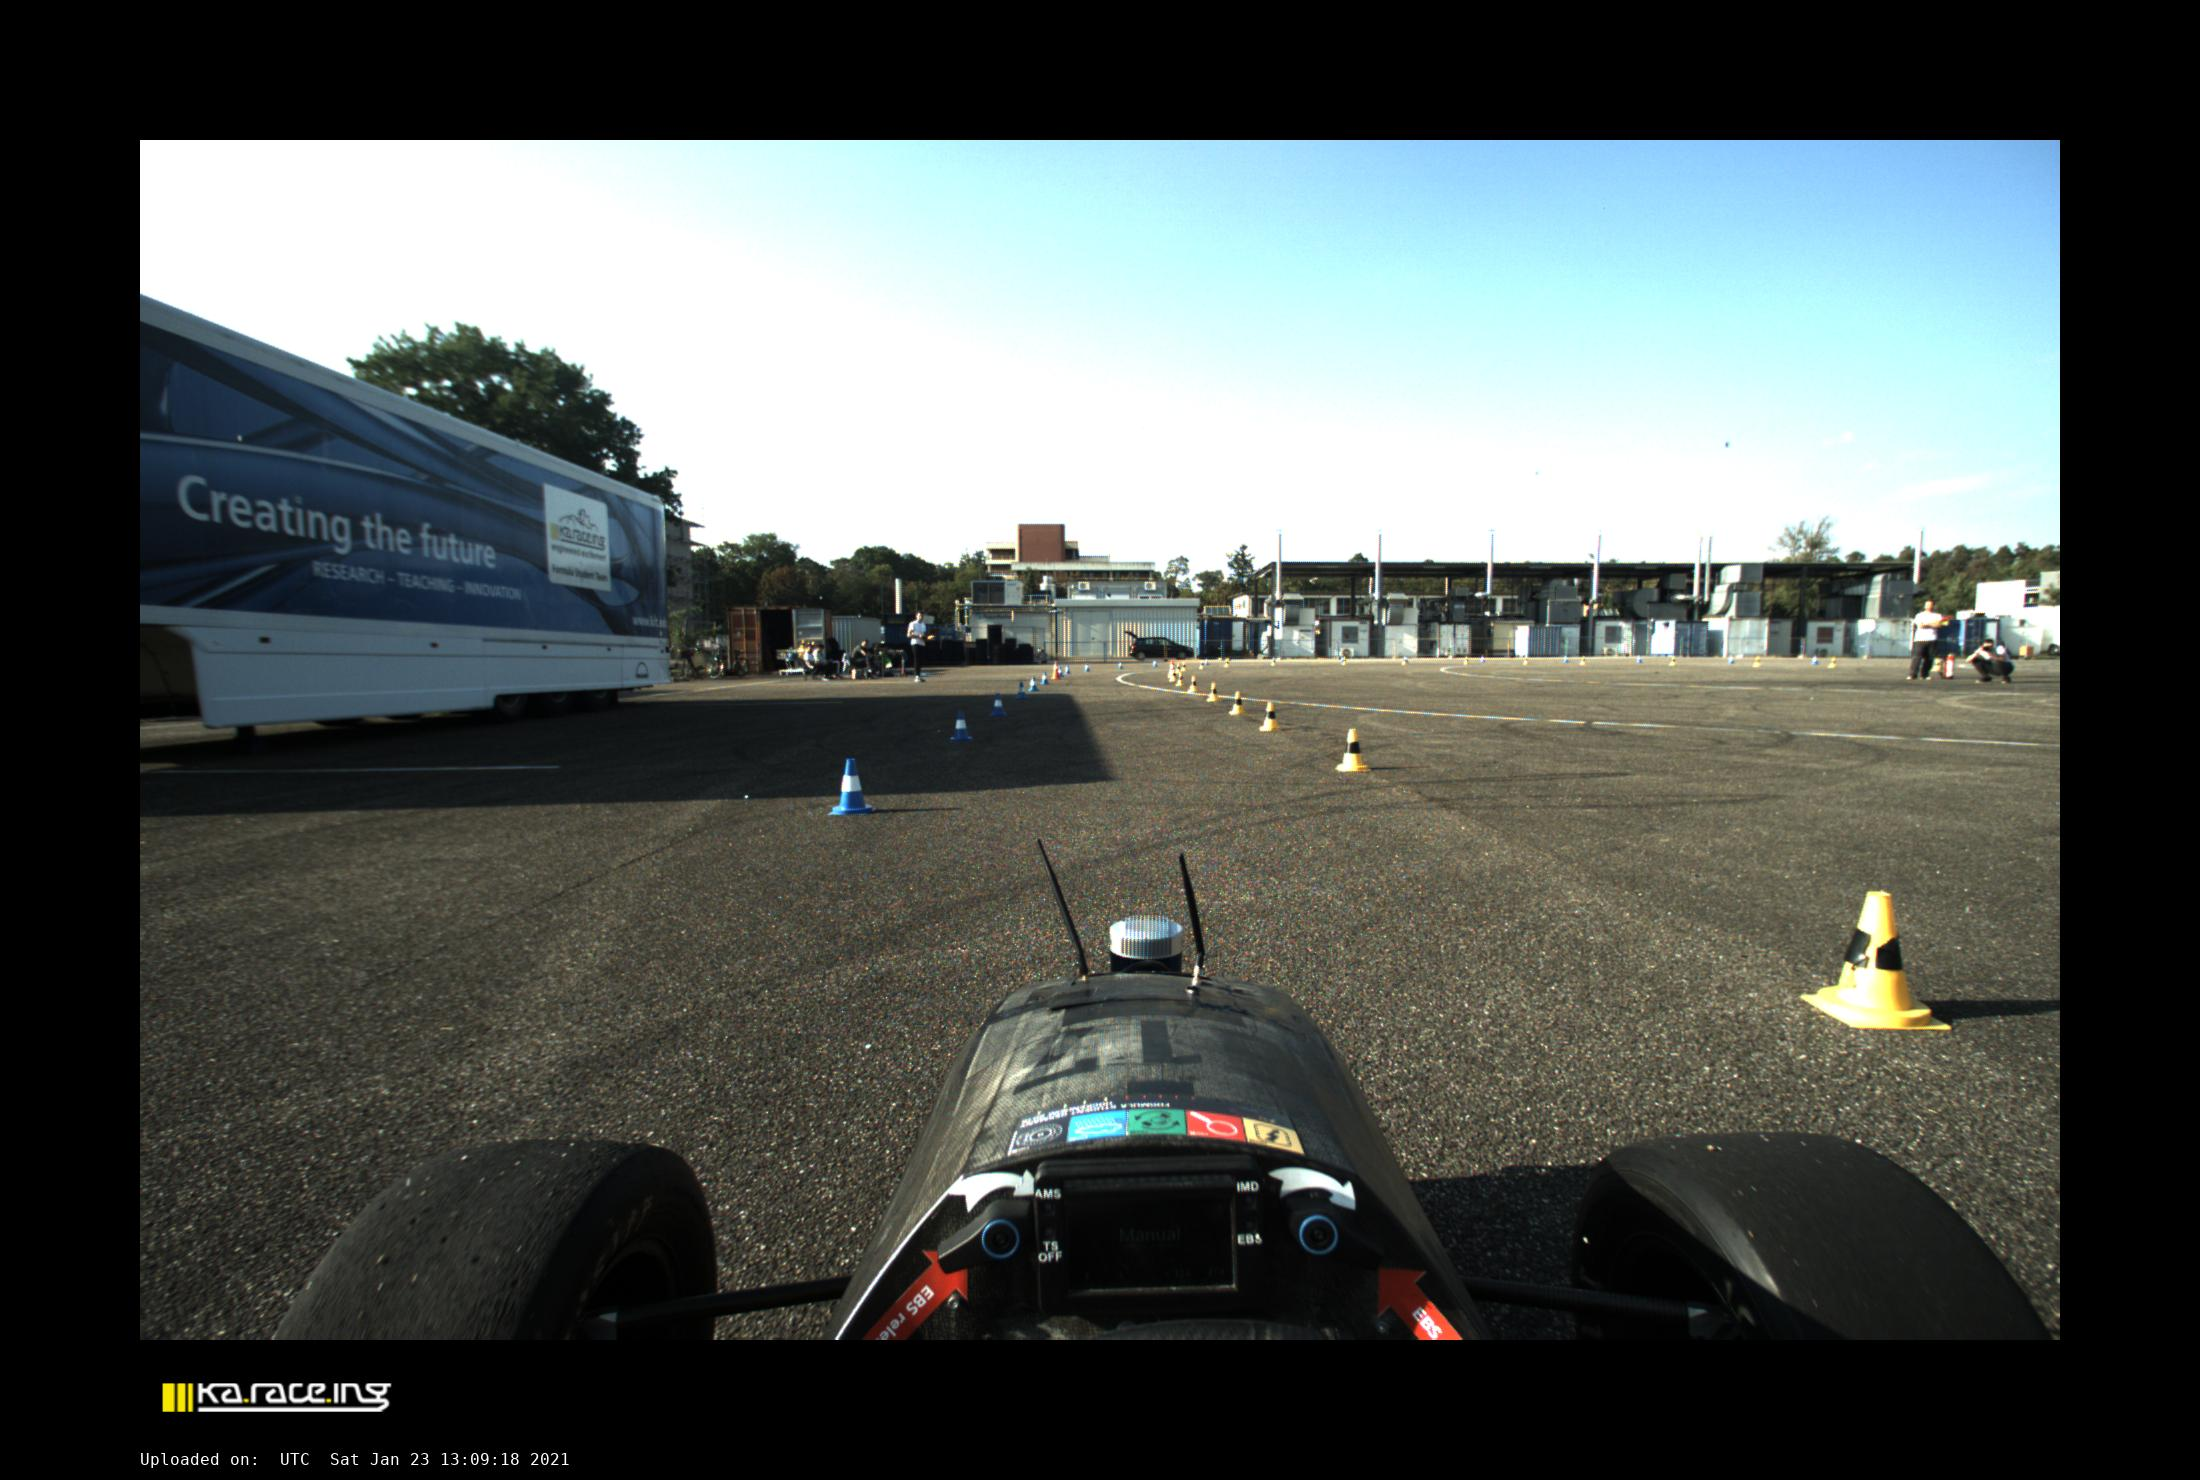blue_cone: (827, 758, 877, 816), (950, 710, 973, 742), (988, 694, 1008, 717), (1014, 681, 1027, 699), (1027, 676, 1039, 692), (1039, 671, 1050, 685), (1810, 656, 1818, 666), (1064, 664, 1070, 674), (1083, 662, 1090, 672), (1059, 666, 1064, 677), (1118, 661, 1125, 669), (1151, 659, 1158, 667), (1728, 656, 1734, 664), (1562, 656, 1569, 662), (1637, 656, 1643, 662), (1204, 657, 1209, 666), (1480, 656, 1485, 662), (1404, 656, 1409, 662), (1339, 656, 1344, 662)
large_orange_cone: (1050, 661, 1060, 681), (1168, 661, 1174, 677)
yellow_cone: (1800, 890, 1952, 1031), (1336, 728, 1371, 771), (1259, 704, 1278, 732), (1229, 690, 1245, 715), (1206, 682, 1221, 702), (1186, 676, 1197, 694), (1932, 656, 1942, 672), (1174, 672, 1184, 685), (1752, 656, 1762, 667), (1827, 656, 1837, 667), (798, 639, 804, 651), (1174, 662, 1181, 672), (1197, 659, 1204, 669), (1222, 657, 1229, 667), (1270, 656, 1277, 666), (1579, 656, 1586, 666), (1670, 656, 1676, 666), (1181, 661, 1186, 671), (1463, 656, 1468, 666), (1523, 656, 1528, 666), (1169, 672, 1174, 681), (1401, 657, 1406, 666), (1343, 657, 1346, 666)
